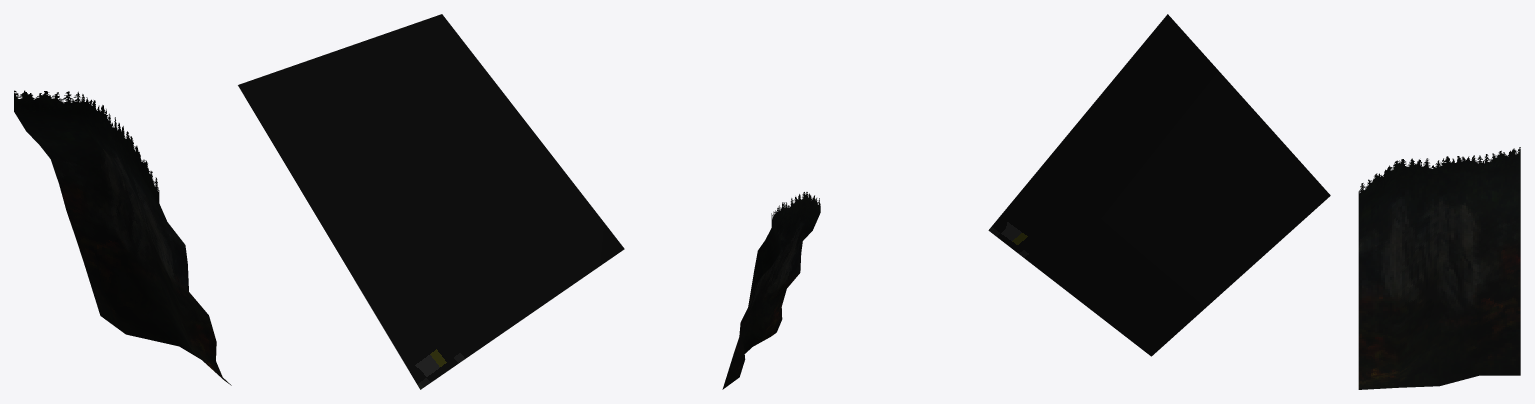
The model's file is cell_1_-6.gltf.
The picture shows the model from 3 angles, left to right: view 1: azimuth 30°, elevation 25°; view 2: azimuth 150°, elevation 25°; view 3: azimuth 270°, elevation 25°; orthographic projection. The views are drawn at different scales.
Parts seen in each view (by area): view 1: cell_1_-6; view 2: cell_1_-6; view 3: cell_1_-6.
Boxes of the visible parts, left/top/right/bottom form: cell_1_-6: left=14, top=14, right=624, bottom=389; cell_1_-6: left=722, top=192, right=820, bottom=389; cell_1_-6: left=988, top=14, right=1520, bottom=389.
Bounding box in the file's own units: 233 × 246 × 358.
Materials: 3 (3 with a texture image).
